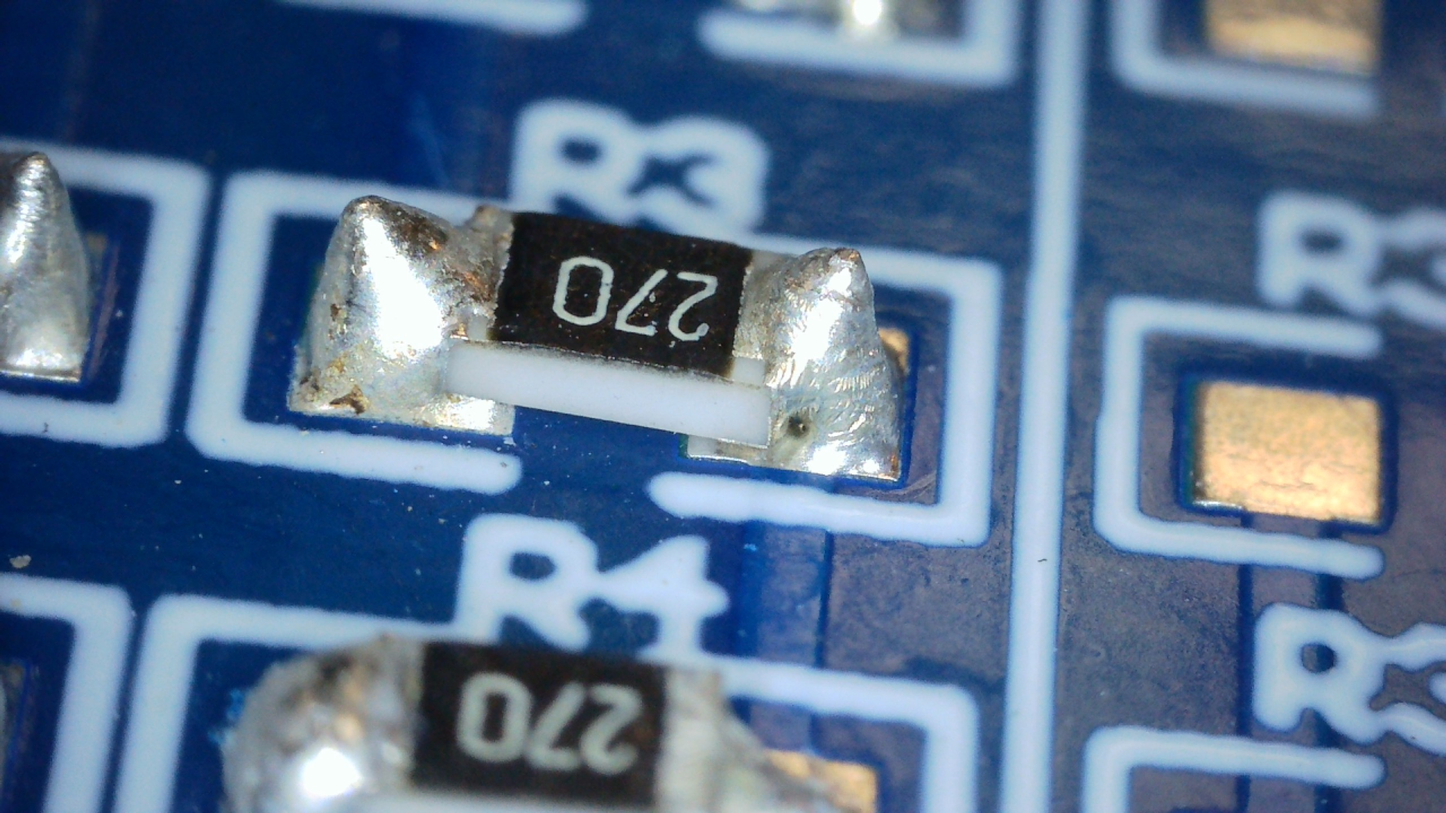NG: (753, 247, 901, 476), (308, 198, 463, 416)
